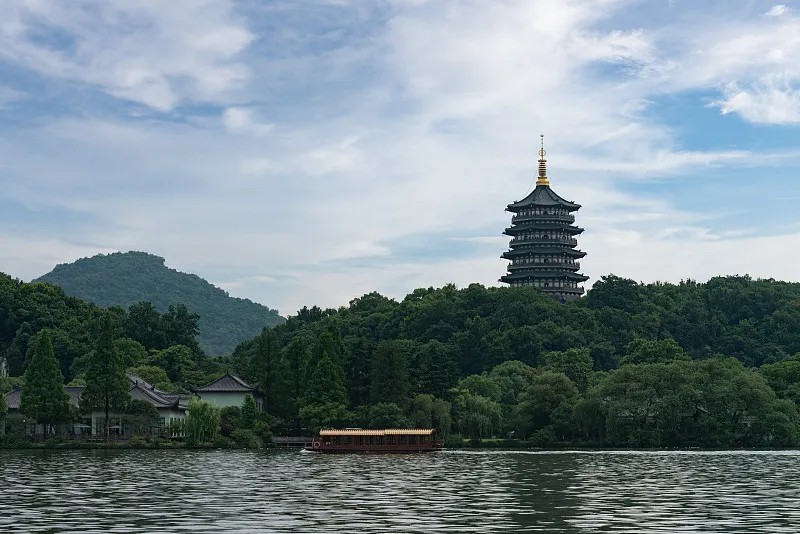Leifeng: (497, 131, 592, 302)
